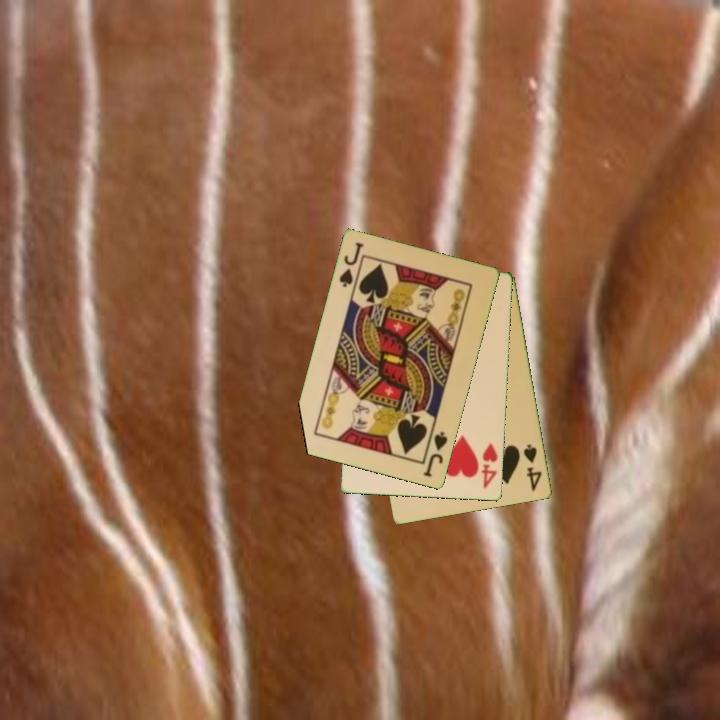4h: (478, 440, 501, 492)
4s: (520, 441, 545, 494)
Js: (336, 239, 367, 294), (420, 428, 451, 480)
